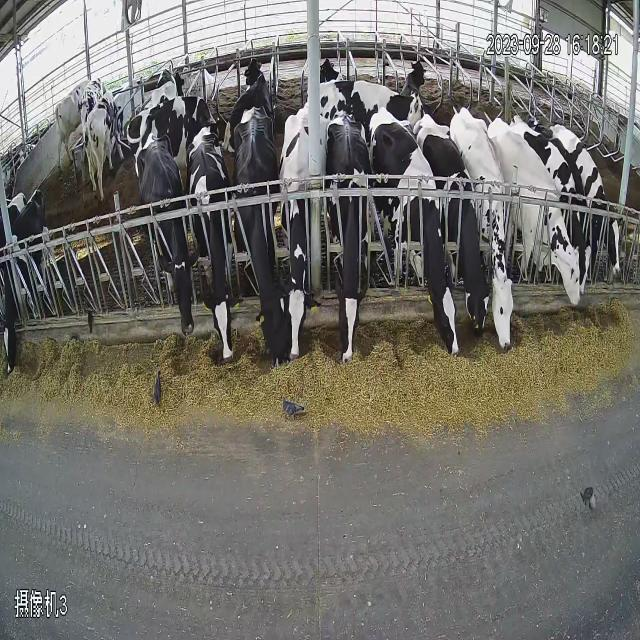drinking: (78, 72, 93, 136)
feeding: (384, 136, 460, 384), (325, 102, 373, 426), (281, 95, 325, 408), (136, 137, 198, 354), (236, 96, 280, 382), (478, 130, 526, 382), (191, 122, 237, 380), (526, 154, 582, 329)
standing: (86, 81, 132, 199)
